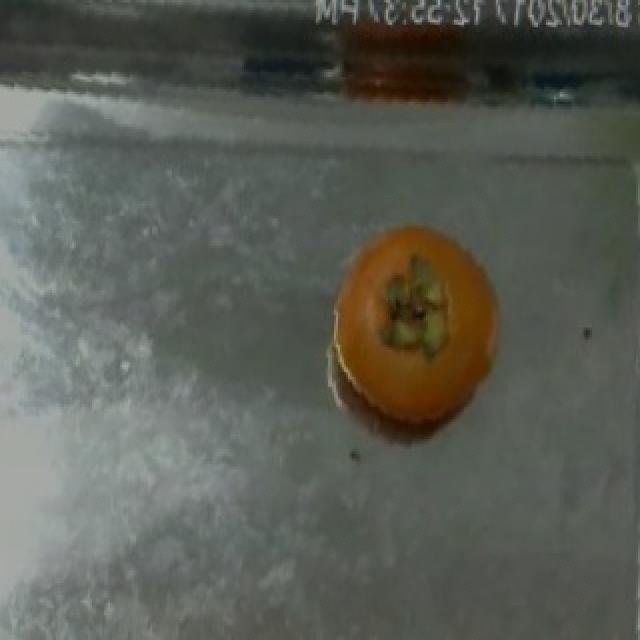Fruit: (308, 208, 526, 446)
